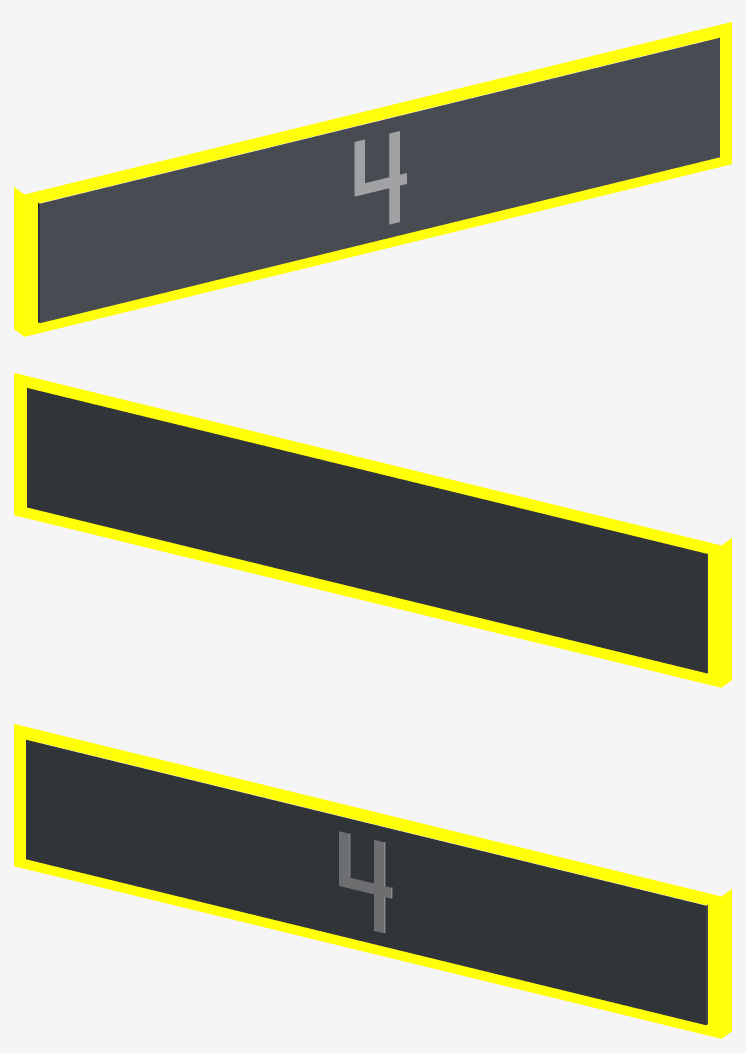
The model's file is ext_sector4_sign_03.glb.
The picture shows the model from 3 angles, top to bottom: view 1: azimuth 30°, elevation 25°; view 2: azimuth 150°, elevation 25°; view 3: azimuth 330°, elevation 25°; orthographic projection.
Parts seen in each view (by area): view 1: Panel, Edge_Bars, Glyph_4; view 2: Panel, Edge_Bars; view 3: Panel, Edge_Bars, Glyph_4.
Boxes of the visible parts, box(x1,y1,x2,y2) form: Panel: box(38, 37, 719, 322); Edge_Bars: box(14, 22, 731, 336); Glyph_4: box(353, 131, 406, 224); Panel: box(27, 388, 707, 673); Edge_Bars: box(14, 373, 731, 687); Panel: box(26, 739, 707, 1024); Edge_Bars: box(14, 724, 731, 1038); Glyph_4: box(339, 831, 392, 933).
Bounding box in the file's own units: 2.6 × 0.5 × 0.086.
